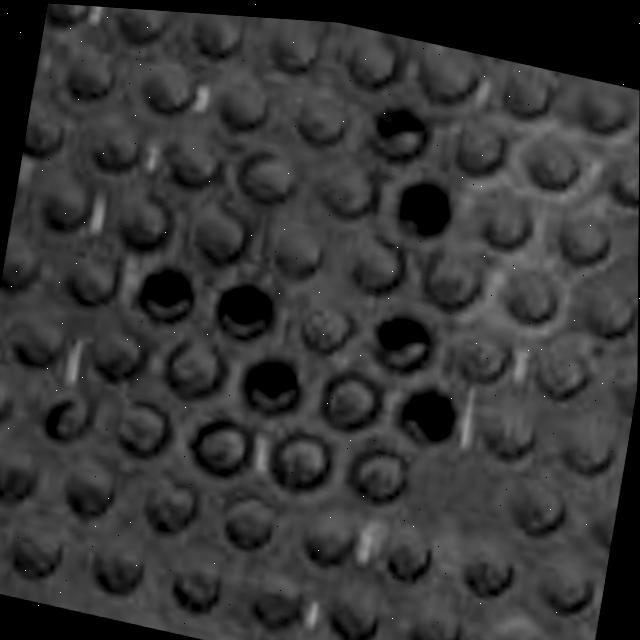Hole: (233, 345, 310, 425), (389, 166, 459, 247), (363, 303, 438, 376), (210, 274, 284, 345), (392, 375, 463, 449), (133, 260, 199, 327)
